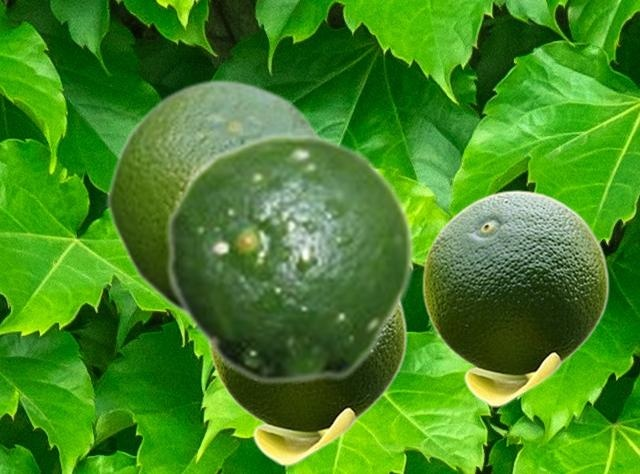calamansi: (165, 132, 415, 385), (105, 77, 322, 315), (422, 190, 608, 406), (208, 304, 406, 465)
